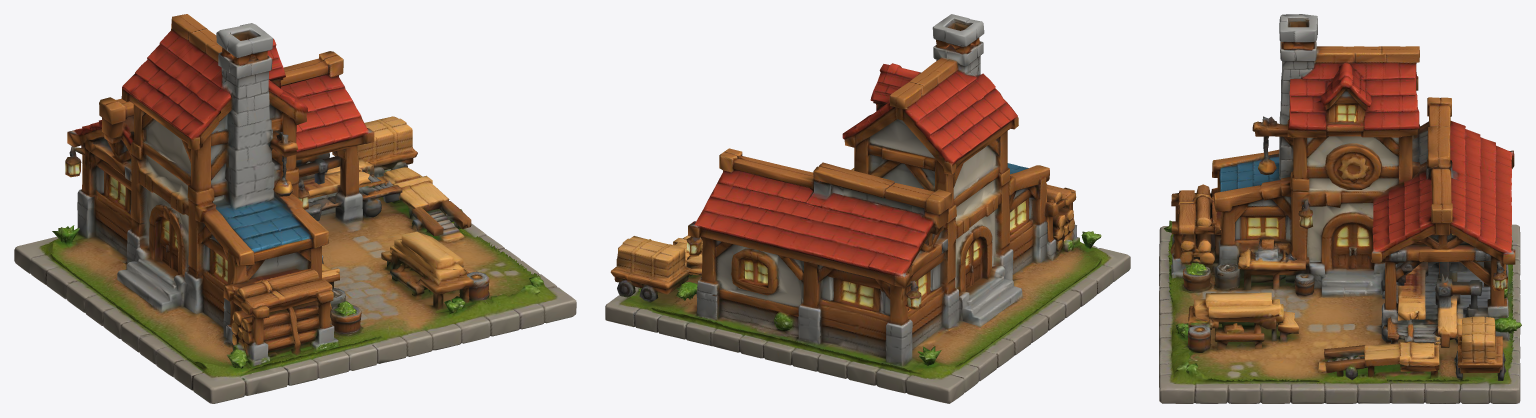
The model's file is wood_workshop_stage3.glb.
The picture shows the model from 3 angles, left to right: view 1: azimuth 30°, elevation 25°; view 2: azimuth 150°, elevation 25°; view 3: azimuth 270°, elevation 25°; orthographic projection. The views are drawn at different scales.
Parts seen in each view (by area): view 1: tripo_node_8c747e89-480e-481b-839a-bb9067a386bf; view 2: tripo_node_8c747e89-480e-481b-839a-bb9067a386bf; view 3: tripo_node_8c747e89-480e-481b-839a-bb9067a386bf.
Part boxes in pixels (x1,y1,x2,y2): tripo_node_8c747e89-480e-481b-839a-bb9067a386bf: (14, 14, 576, 403); tripo_node_8c747e89-480e-481b-839a-bb9067a386bf: (605, 14, 1130, 403); tripo_node_8c747e89-480e-481b-839a-bb9067a386bf: (1159, 14, 1521, 403).
Bounding box in the file's own units: 1 × 0.746 × 0.9201.
Materials: 1 (1 with a texture image).
